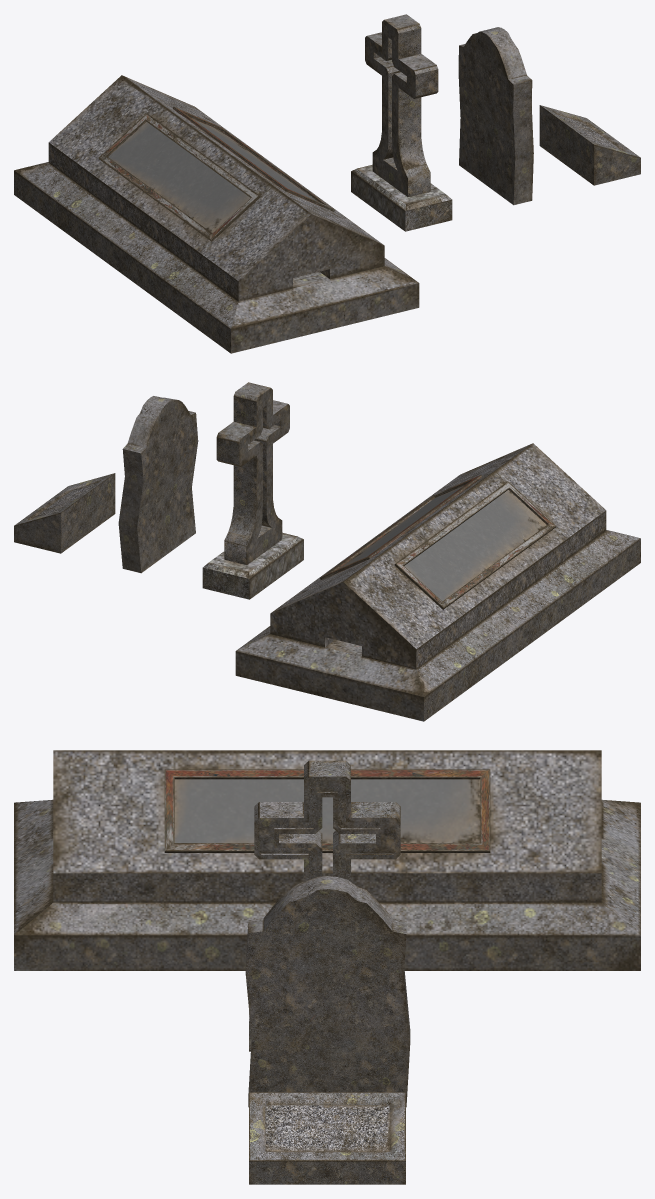
Rendered from grave_stone_collection_64_7j05.glb.
3 views of the same model, one above another, from view 1: azimuth 30°, elevation 25°; view 2: azimuth 150°, elevation 25°; view 3: azimuth 270°, elevation 25° (orthographic). The views are drawn at different scales.
Parts seen in each view (by area): view 1: Grave1, Grave3, Grave2, Grave4; view 2: Grave1, Grave3, Grave2, Grave4; view 3: Grave1, Grave2, Grave4, Grave3.
Part boxes in pixels (bbox=[...]): Grave1: bbox=[14, 75, 419, 353]; Grave3: bbox=[351, 14, 452, 231]; Grave2: bbox=[458, 27, 533, 205]; Grave4: bbox=[539, 105, 640, 185]; Grave1: bbox=[235, 443, 640, 721]; Grave3: bbox=[202, 382, 303, 599]; Grave2: bbox=[118, 396, 198, 573]; Grave4: bbox=[14, 473, 115, 553]; Grave1: bbox=[14, 750, 640, 970]; Grave2: bbox=[245, 876, 410, 1107]; Grave4: bbox=[249, 1092, 405, 1184]; Grave3: bbox=[249, 760, 400, 1051].
Bounding box in the file's own units: 319 × 114 × 244.
Materials: 1 (1 with a texture image).
